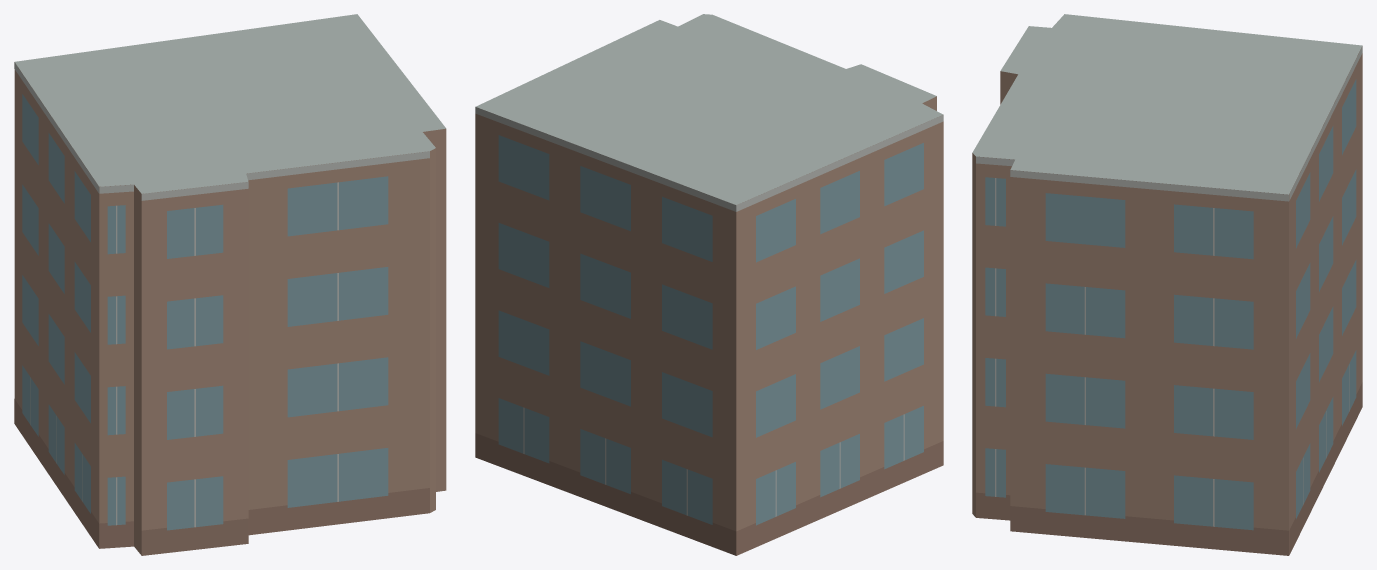
File: survey-upis-32934710.glb
The picture shows the model from 3 angles, left to right: view 1: azimuth 30°, elevation 25°; view 2: azimuth 150°, elevation 25°; view 3: azimuth 270°, elevation 25°; orthographic projection. The views are drawn at different scales.
Parts seen in each view (by area): view 1: survey-upis-32934710.tmp; view 2: survey-upis-32934710.tmp; view 3: survey-upis-32934710.tmp.
Part boxes in pixels (x1,y1,x2,y2): survey-upis-32934710.tmp: (14, 14, 446, 555); survey-upis-32934710.tmp: (475, 14, 943, 555); survey-upis-32934710.tmp: (972, 14, 1362, 555).
Bounding box in the file's own units: 13.57 × 12.65 × 12.39.
